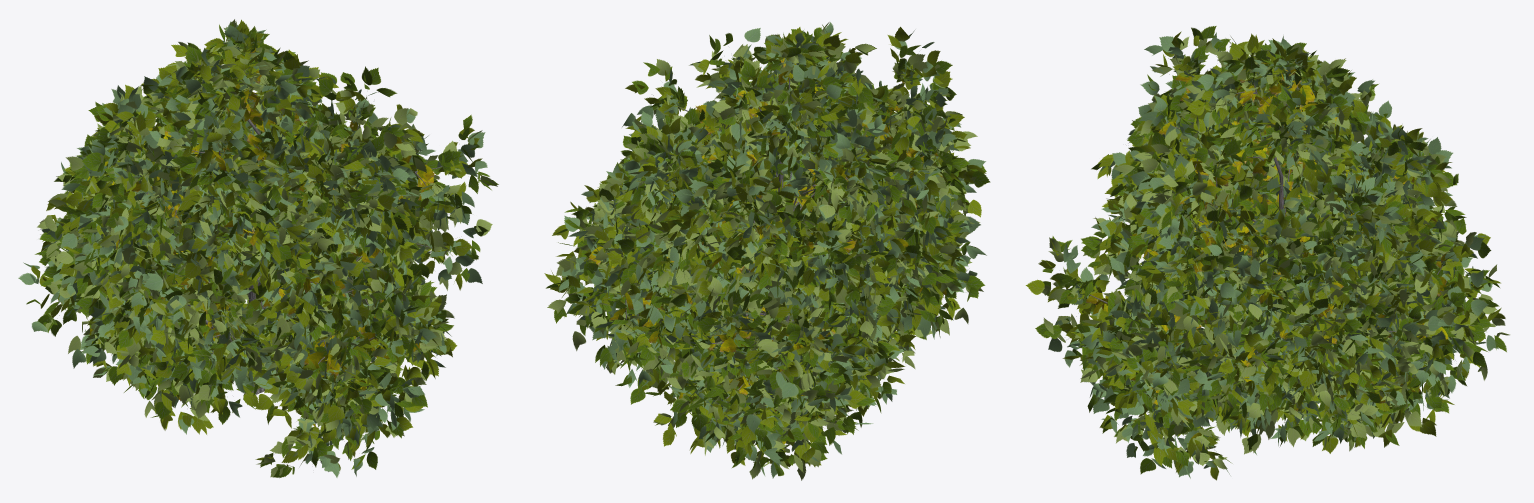
The model's file is bush.glb.
The picture shows the model from 3 angles, left to right: view 1: azimuth 30°, elevation 25°; view 2: azimuth 150°, elevation 25°; view 3: azimuth 270°, elevation 25°; orthographic projection.
Parts seen in each view (by area): view 1: Bush 3 (smaller); view 2: Bush 3 (smaller); view 3: Bush 3 (smaller).
Part boxes in pixels (x1,y1,x2,y2): Bush 3 (smaller): [18, 19, 498, 477]; Bush 3 (smaller): [544, 22, 990, 480]; Bush 3 (smaller): [1025, 26, 1509, 480].
Bounding box in the file's own units: 1.47 × 1.5 × 1.56.
Materials: 6 (6 with a texture image).
